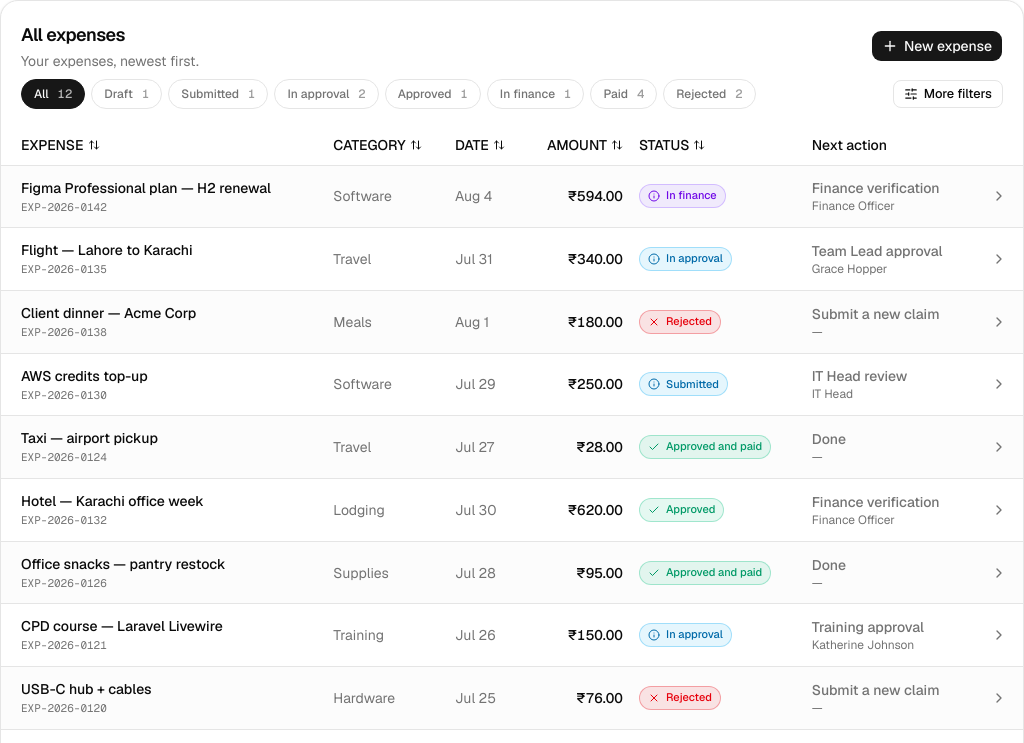
FullExpenseList shared filter section (ADR-0021) › filters the table to the chosen status chip
Click the button "Rejected 2" at (709, 94), box [663, 79, 756, 109]
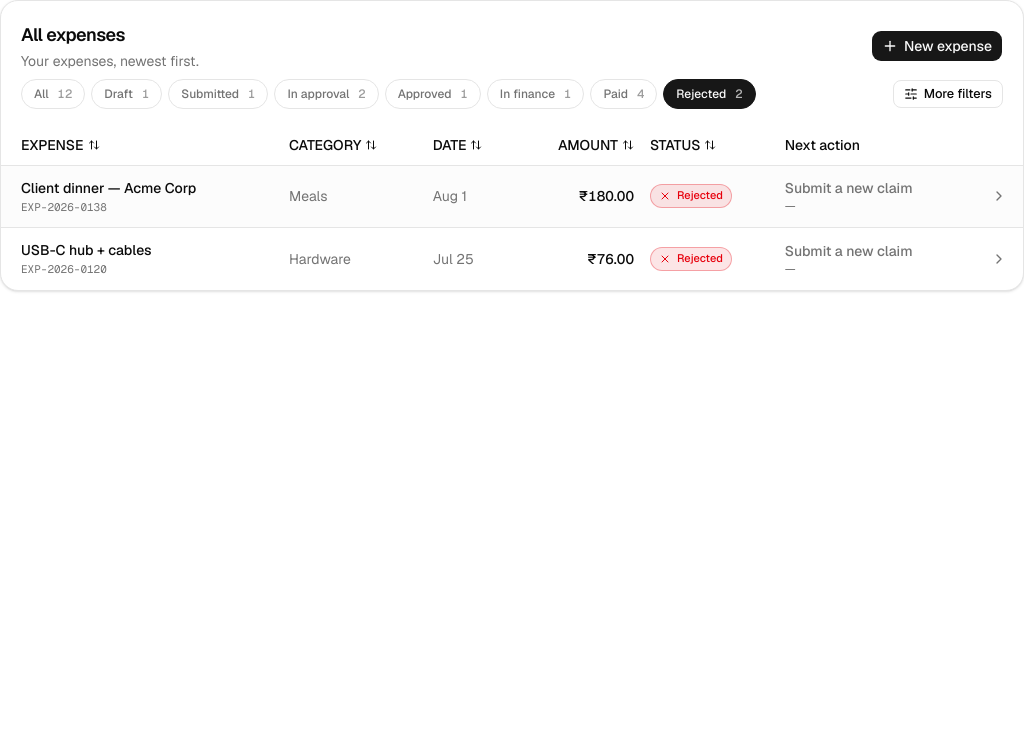
Check: the text "Client dinner — Acme Corp" is shown, box [21, 178, 196, 196]
Check: the text "Office snacks — pantry restock" is gone
